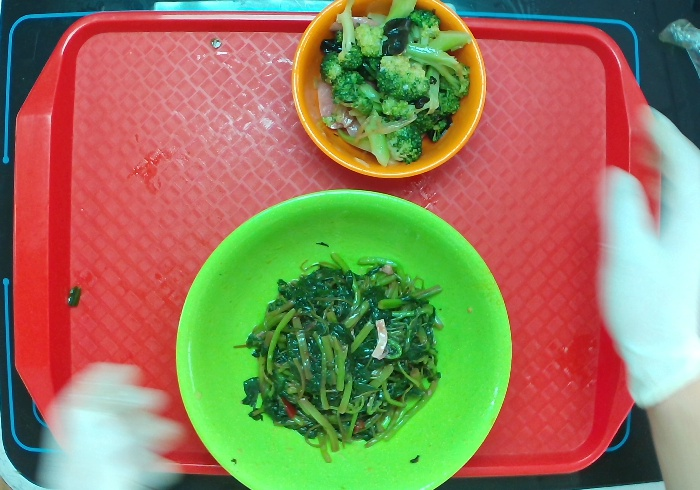YKMZ-Ju_Se_Yuan_Wan: (289, 1, 489, 179)
YKMZ-Lv_Se_Tang_Wan: (174, 187, 515, 490)
